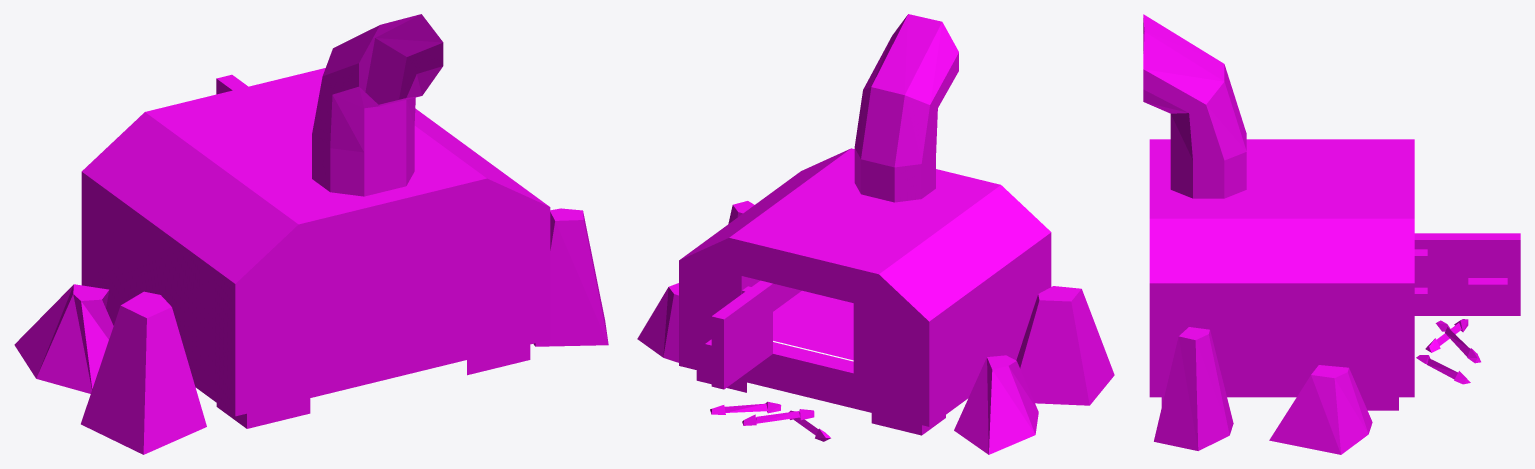
Rendered from cave furnace.obj.
3 renders of one model, left to right at view 1: azimuth 30°, elevation 25°; view 2: azimuth 150°, elevation 25°; view 3: azimuth 270°, elevation 25°, orthographic. The views are drawn at different scales.
Visible parts, largest first — view 1: cave furnace_back; view 2: cave furnace_back; view 3: cave furnace_back.
Part boxes in pixels (bbox=[...]): cave furnace_back: bbox=[14, 14, 608, 454]; cave furnace_back: bbox=[637, 14, 1114, 454]; cave furnace_back: bbox=[1143, 14, 1520, 454].
Size of the model in its own units: 3.88 by 2.77 by 2.88.
